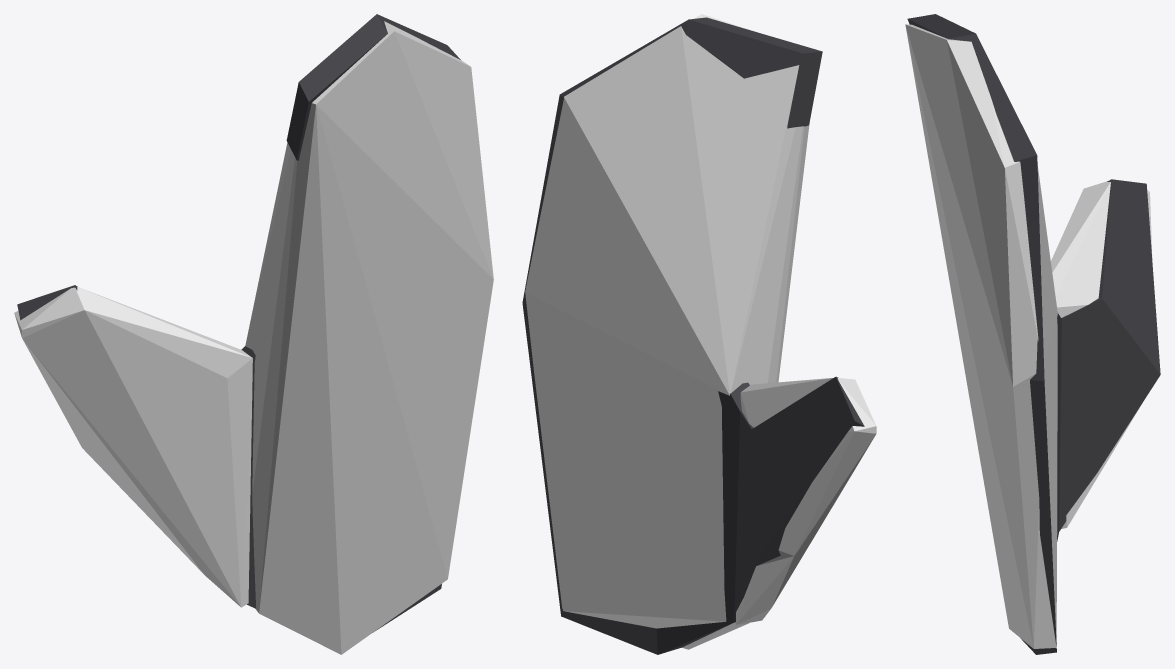
File: SM_Env_Debris_Shell_05.fbx
The picture shows the model from 3 angles, left to right: view 1: azimuth 30°, elevation 25°; view 2: azimuth 150°, elevation 25°; view 3: azimuth 270°, elevation 25°; orthographic projection. The views are drawn at different scales.
Visible parts, largest first — view 1: SM_Env_Debris_Shell_05_ConvexHulls, SM_Env_Debris_Shell_05_LOD0; view 2: SM_Env_Debris_Shell_05_ConvexHulls, SM_Env_Debris_Shell_05_LOD0; view 3: SM_Env_Debris_Shell_05_ConvexHulls, SM_Env_Debris_Shell_05_LOD0.
Boxes of the visible parts, left/top/right/bottom form: SM_Env_Debris_Shell_05_ConvexHulls: left=14, top=21, right=493, bottom=654; SM_Env_Debris_Shell_05_LOD0: left=17, top=14, right=460, bottom=632; SM_Env_Debris_Shell_05_ConvexHulls: left=525, top=14, right=876, bottom=649; SM_Env_Debris_Shell_05_LOD0: left=522, top=17, right=864, bottom=654; SM_Env_Debris_Shell_05_ConvexHulls: left=905, top=24, right=1152, bottom=648; SM_Env_Debris_Shell_05_LOD0: left=907, top=14, right=1160, bottom=654.
Size of the model in its own units: 61.42 by 107 by 160.
Materials: 1 (1 with a texture image).
